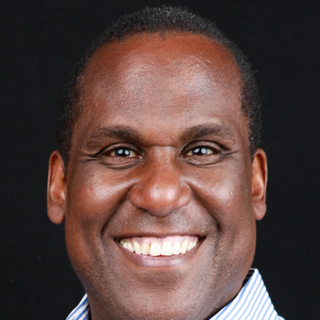eye: (179, 139, 228, 164), (94, 141, 145, 165)
